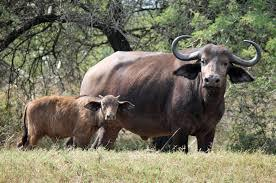Buffalo: (94, 31, 276, 117)
